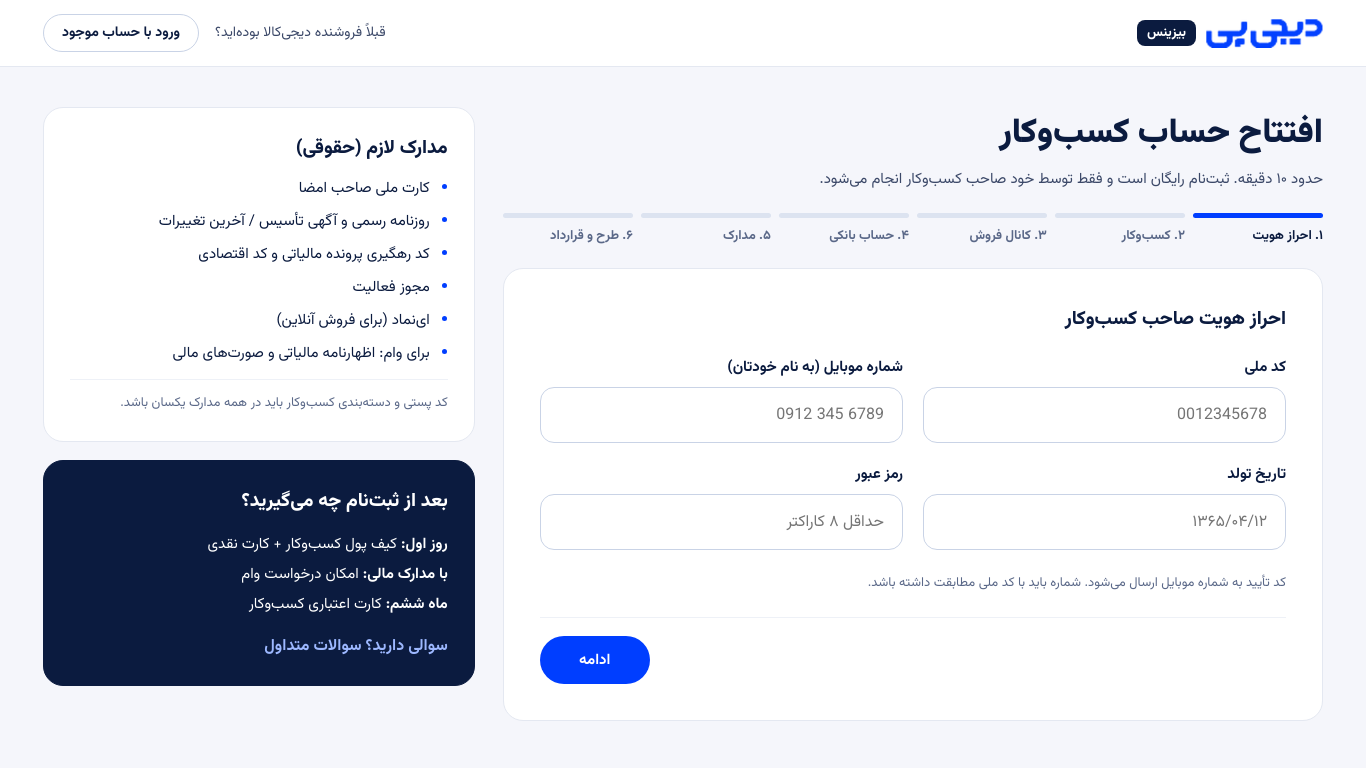
it: blocks signup step 1 until the fields are valid
The width and height of the screenshot is (1366, 768).
Click the button "ادامه" at coordinates (595, 660), box [540, 636, 650, 684]
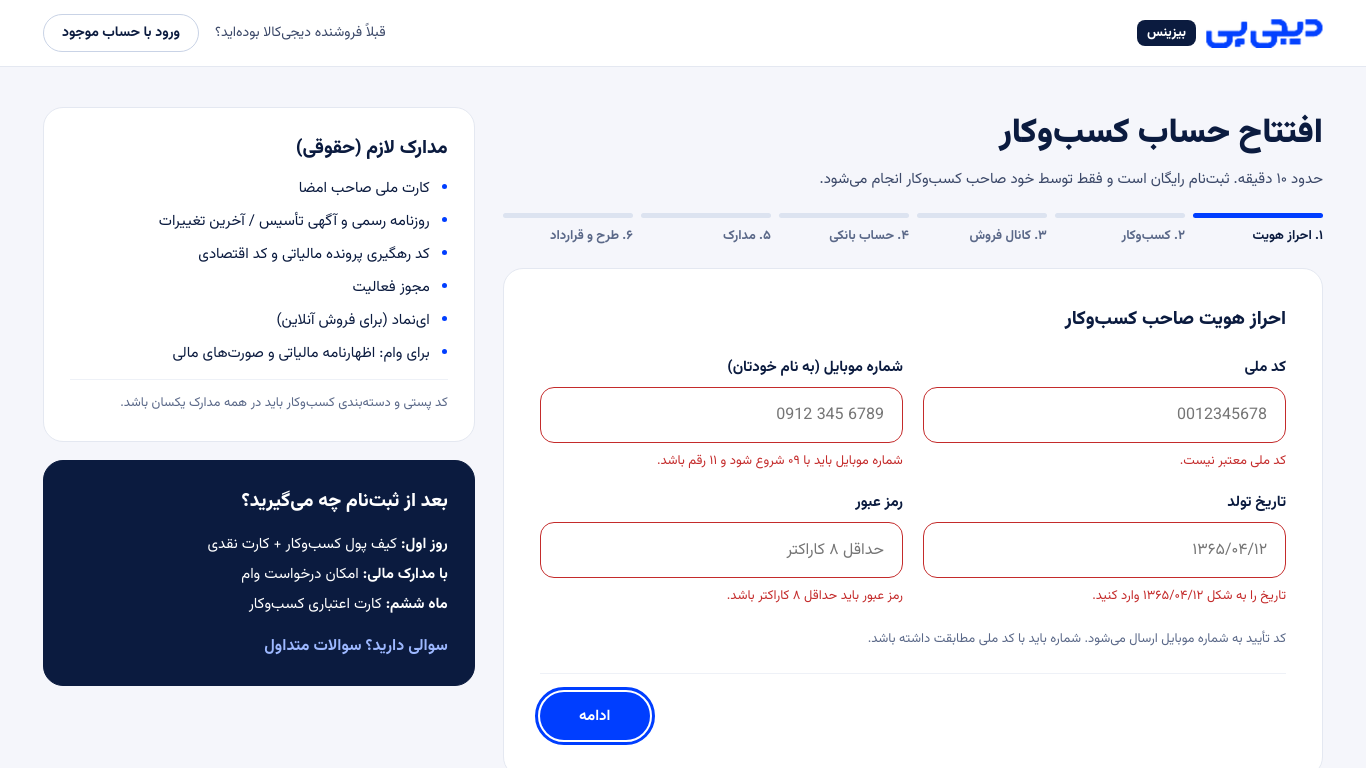
expect the text "کد ملی معتبر نیست." is shown: met, box [1180, 451, 1286, 471]
Type "0012345679" into the field labelled "کد ملی" at coordinates (1104, 415), box [923, 387, 1286, 443]
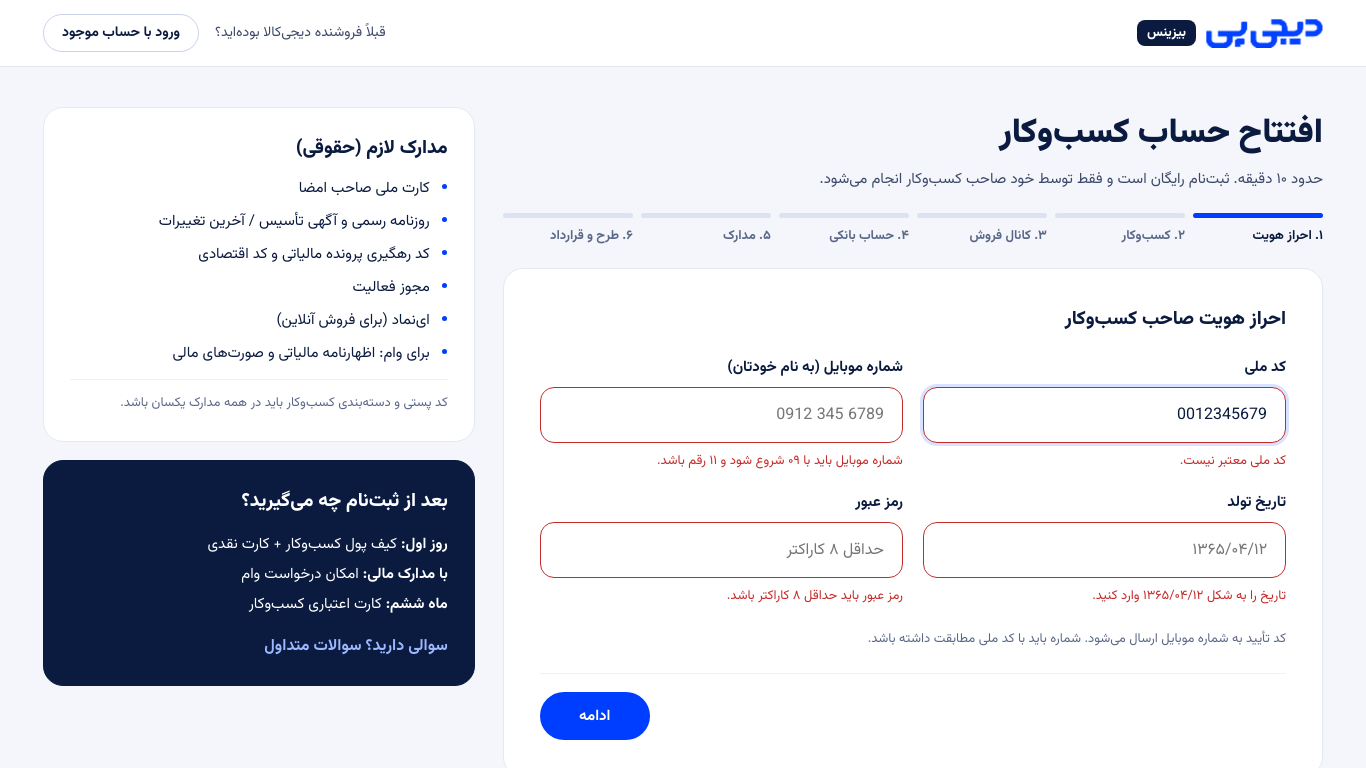
Type "09123456789" into the field labelled "شماره موبایل (به نام خودتان)" at coordinates (721, 415), box [540, 387, 903, 443]
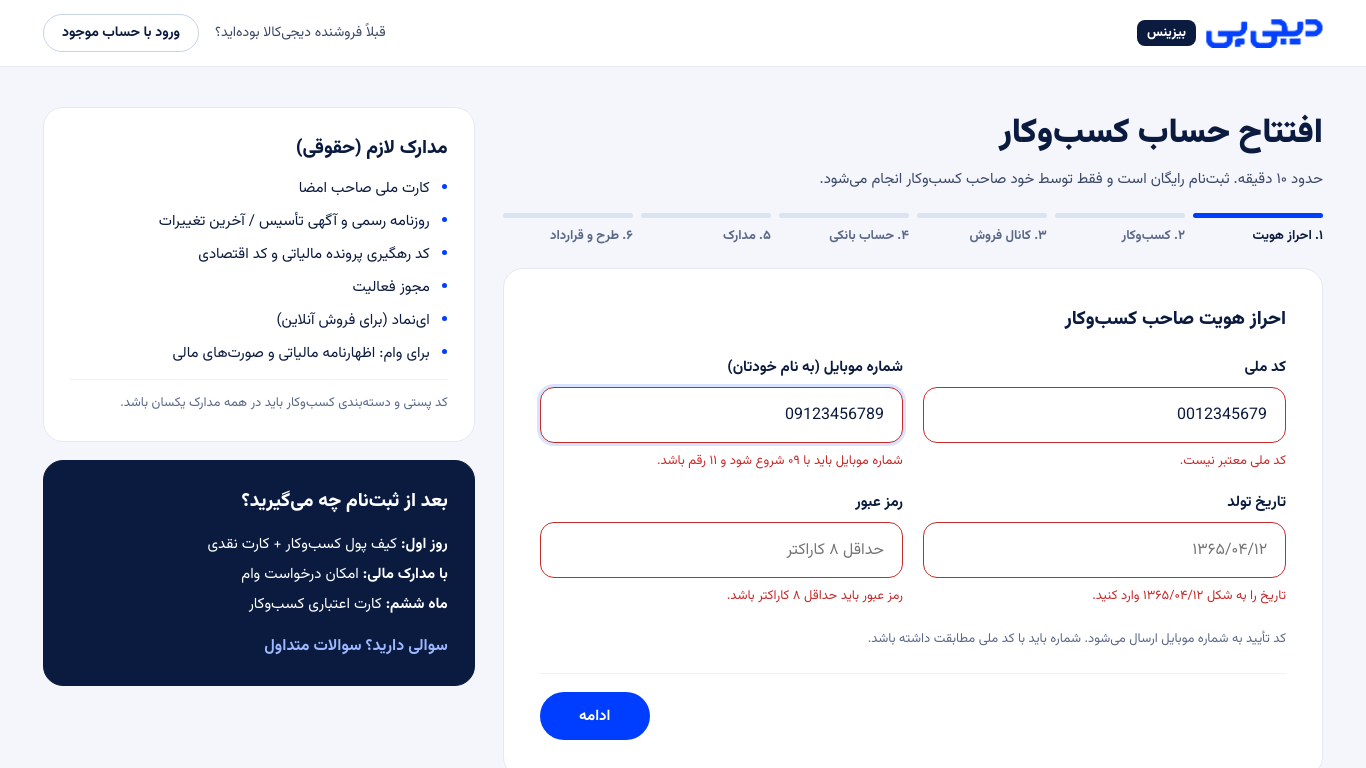
Type "1365/04/12" into the field labelled "تاریخ تولد" at coordinates (1104, 550), box [923, 522, 1286, 578]
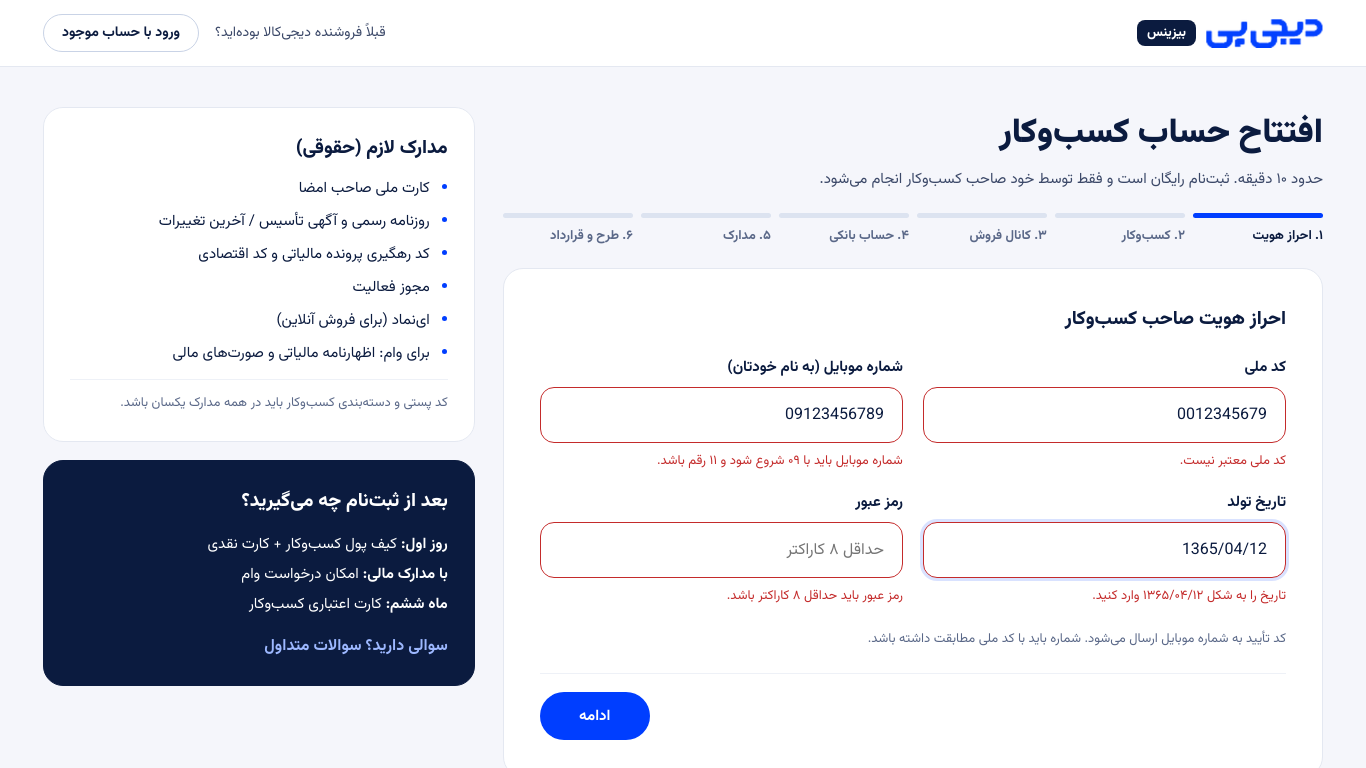
Type "secret123" into the password field labelled "رمز عبور" at coordinates (721, 550), box [540, 522, 903, 578]
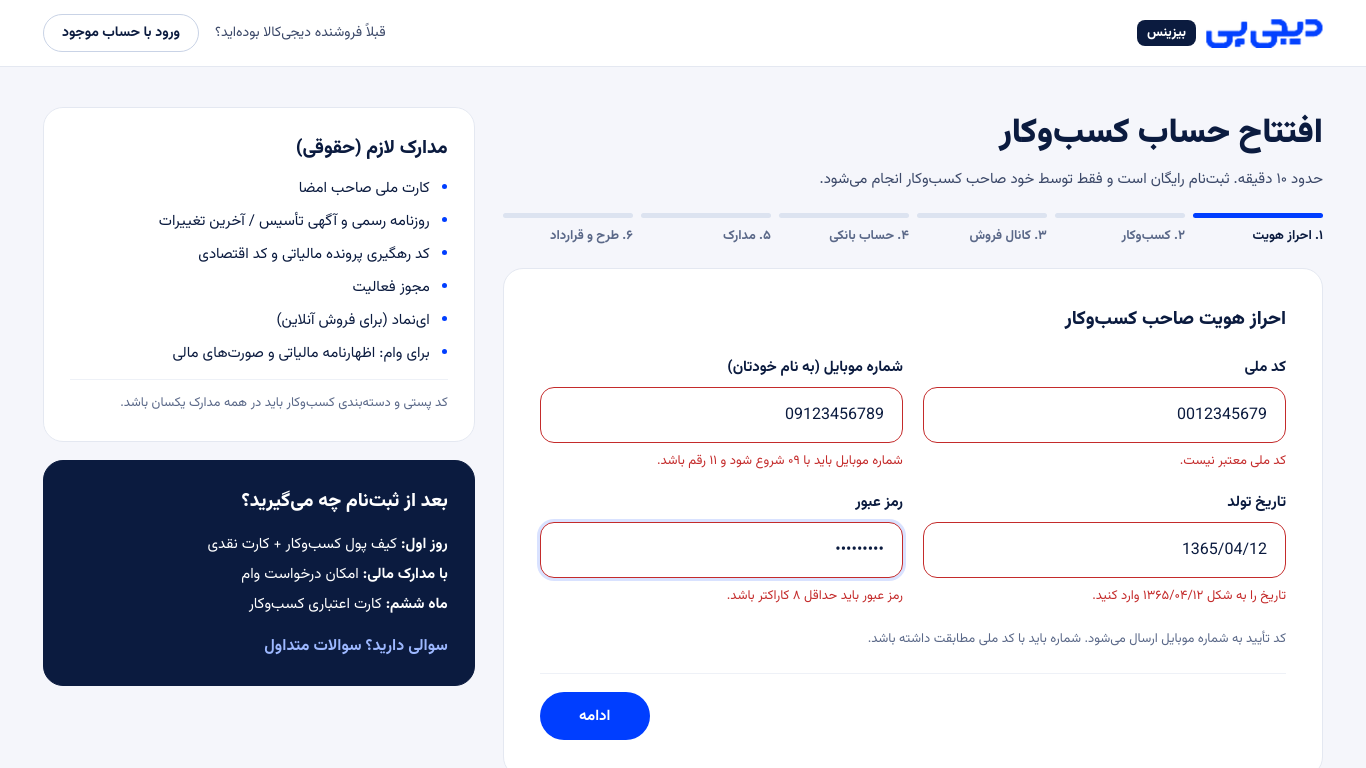
Click the button "ادامه" at coordinates (595, 716), box [540, 692, 650, 740]
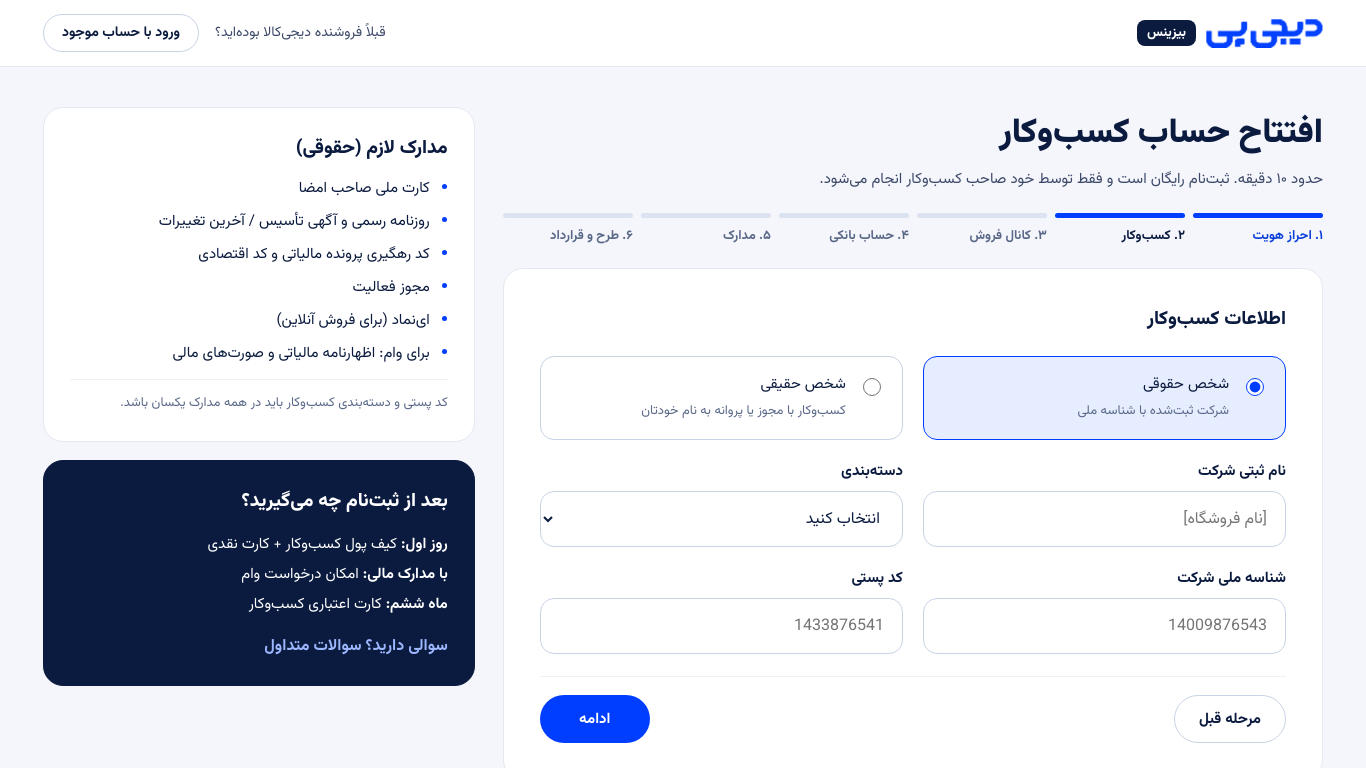
expect the heading "اطلاعات کسب‌وکار" is shown: met, box [1147, 305, 1286, 334]
